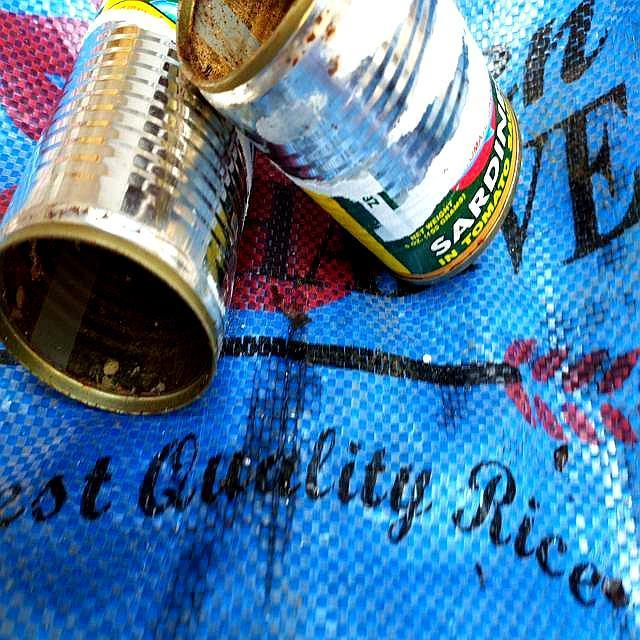Non-biodegradable: (1, 1, 276, 417), (176, 1, 535, 298)
